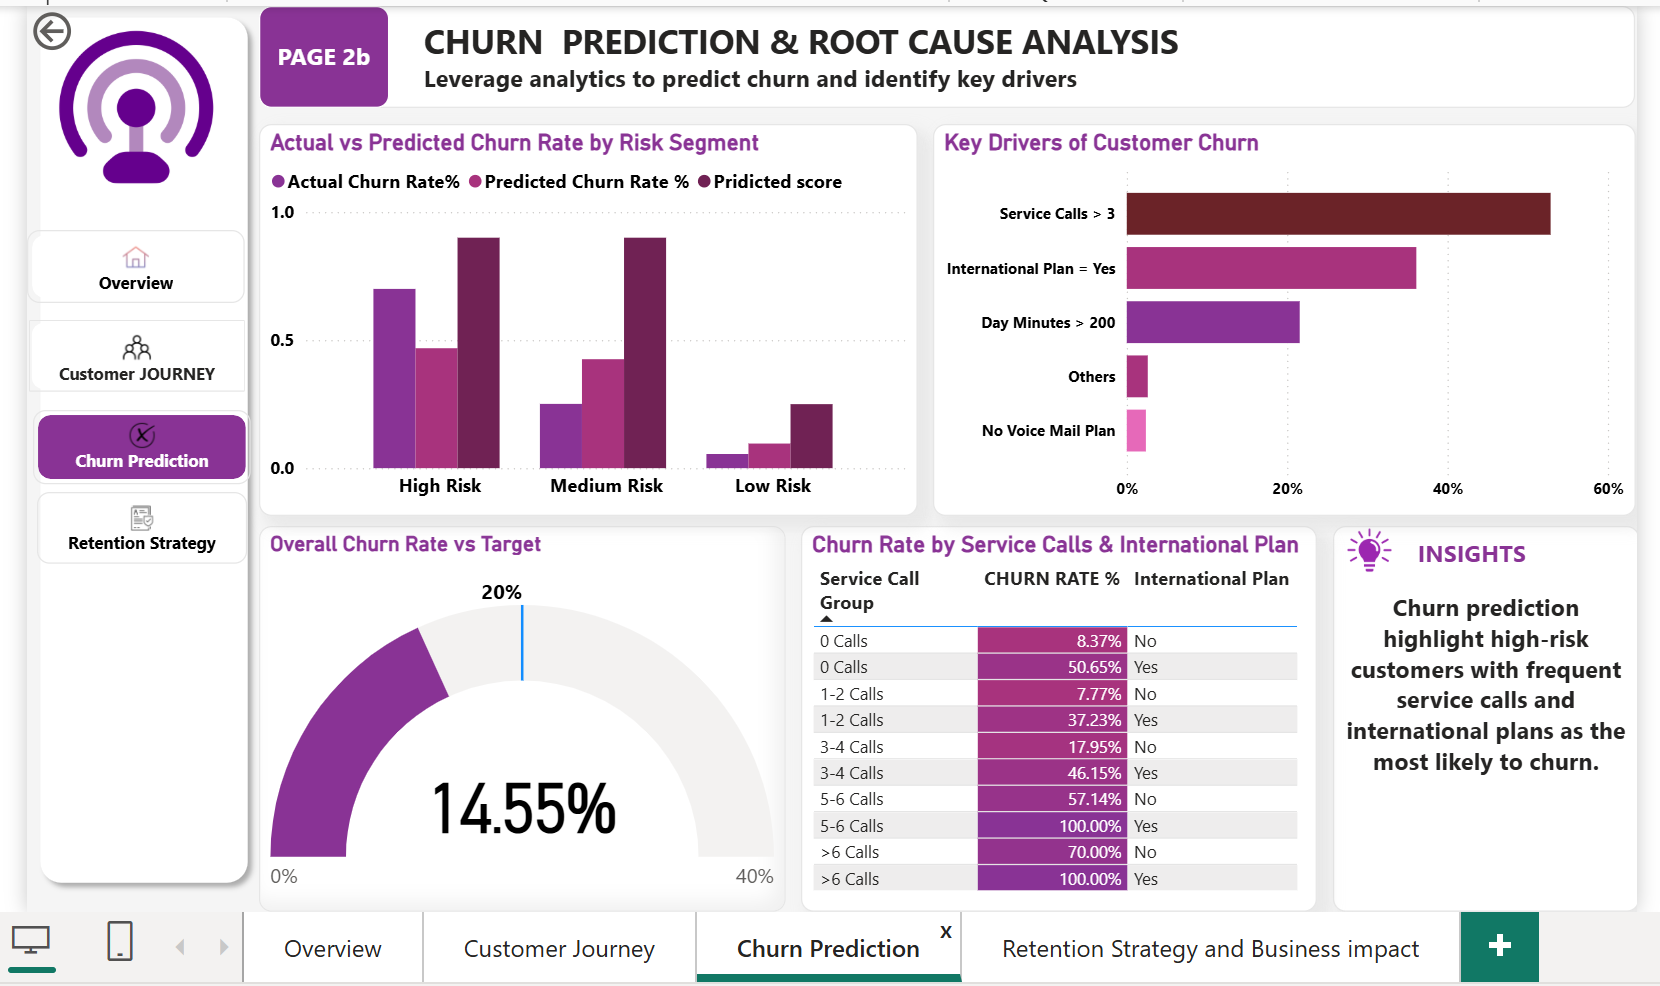

The dashboard page shown, as its layout file describes it:
{"tool":"powerbi","page":{"name":"Churn Prediction","canvas":[1280,720],"ordinal":2},"visuals":[{"type":"shape","box":[1.6,0,182.8,705.7],"z":0},{"type":"image","box":[19.1,14.3,135.1,133.5],"z":1000},{"type":"actionButton","box":[0,178,173.2,58],"z":2000},{"type":"actionButton","box":[1.6,249.5,171.7,57.2],"z":3000},{"type":"actionButton","box":[4.8,321.1,173.2,58.8],"z":4000},{"type":"actionButton","box":[7.9,386.2,166.9,57.2],"z":5000},{"type":"textbox","box":[247.9,0,1029.9,81.1],"z":7000},{"type":"textbox","box":[184.4,0,103.3,81.1],"z":8000},{"type":"textbox","box":[1038.3,413.3,243.3,306.7],"z":14000},{"type":"image","box":[1038.3,415,58.3,35],"z":15000},{"type":"gauge","title":"Overall Churn Rate vs Target ","fields":{"Y":["telecom churn.CHURN RATE %"],"TargetValue":["churn status.Target Churn"],"MinValue":["churn status.Min Gauge"],"MaxValue":["churn status.Max Gauge"]},"box":[185,413.3,418.3,306.7],"z":16000},{"type":"actionButton","box":[0,0,100,40],"z":17000},{"type":"tableEx","title":"Churn Rate by Service Calls & International Plan","fields":{"Values":["telecom churn.Service Call Group","telecom churn.CHURN RATE %","telecom churn.International Plan"]},"box":[615,413.3,410,306.7],"z":18000},{"type":"clusteredColumnChart","title":"Actual vs Predicted Churn Rate by Risk Segment","fields":{"Category":["telecom churn.Risk Segment"],"Y":["telecom churn.Actual Churn Rate%","telecom churn.Predicted Churn Rate %","telecom churn.Pridicted score"]},"box":[185,93.3,523.3,311.7],"z":19000},{"type":"barChart","title":"Key Drivers of Customer Churn  ","fields":{"Y":["telecom churn.Impact on Churn%"],"Category":["telecom churn.Driver"]},"box":[720,93.3,558.3,311.7],"z":20000}]}

Visuals, with their boxes on the page's 1280x720 design canvas (x1, y1, x2, y2). These are canvas units, not pixel positions in the 1660x986 screenshot, which may show the page scaled, cropped or inside an application window:
shape: 2 0 184 706
image: 19 14 154 148
actionButton: 0 178 173 236
actionButton: 2 250 173 307
actionButton: 5 321 178 380
actionButton: 8 386 175 443
textbox: 248 0 1278 81
textbox: 184 0 288 81
textbox: 1038 413 1282 720
image: 1038 415 1097 450
"Overall Churn Rate vs Target " gauge: 185 413 603 720
actionButton: 0 0 100 40
"Churn Rate by Service Calls & International Plan" tableEx: 615 413 1025 720
"Actual vs Predicted Churn Rate by Risk Segment" clusteredColumnChart: 185 93 708 405
"Key Drivers of Customer Churn  " barChart: 720 93 1278 405
